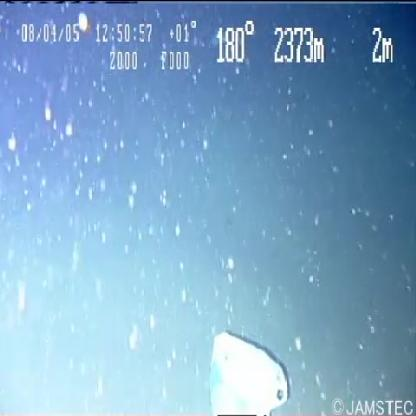Rác: (203, 316, 295, 416)
